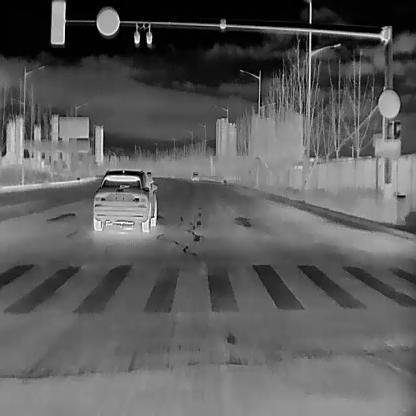car: (92, 168, 157, 232), (191, 171, 199, 181)
